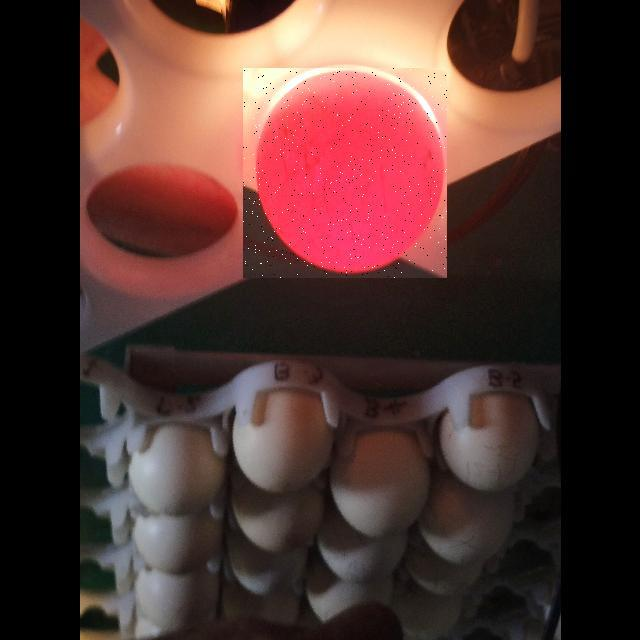Infertile: (243, 68, 447, 278)
